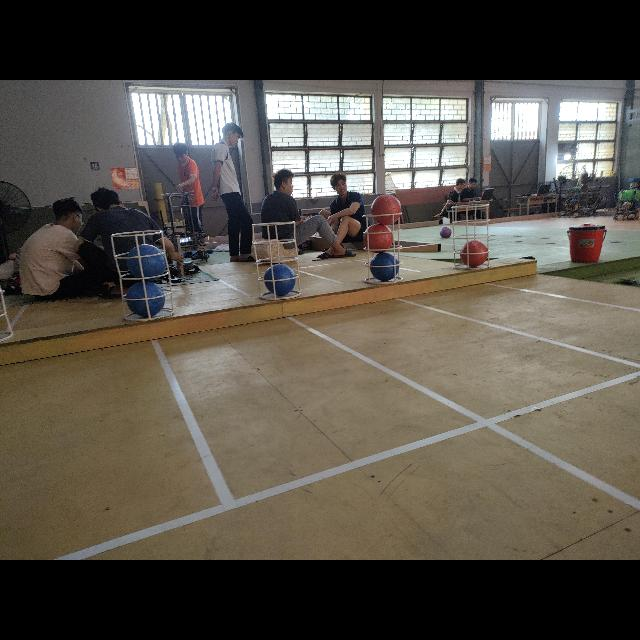B: (128, 244, 168, 282), (126, 281, 166, 319), (266, 264, 296, 300), (372, 252, 401, 282)
R: (372, 194, 403, 226), (459, 240, 488, 270), (366, 224, 392, 252)
